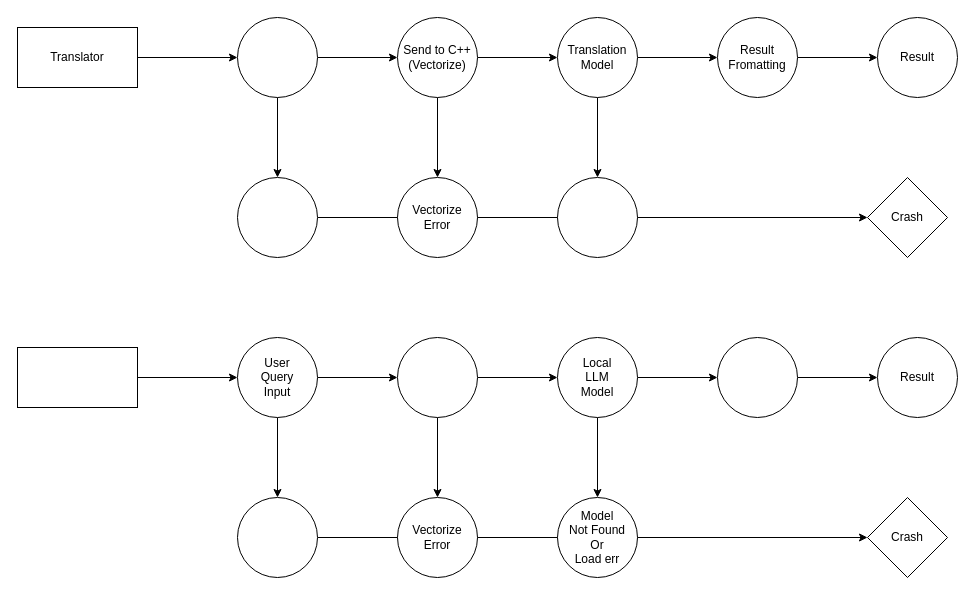
Some shapes in this 975 by 595 pixel diagram are drawn without their labels. Here are the shapes that lost their labels. From the top down, the centre of each, then its label:
At point 277,57: "Parse File (pdf, txt)".
At point 277,217: "File Error".
At point 597,217: "Model Load Error".
At point 77,377: "RAG".
At point 437,377: "Vectorize Query".
At point 757,377: "Result Formatting".
At point 277,537: "Bad request Or Limit".
